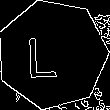L_N: (36, 29, 69, 80)
